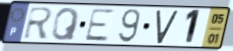1: (182, 9, 201, 47)
9: (116, 8, 143, 44)
E: (83, 7, 116, 43)
Q: (50, 6, 82, 42)
R: (22, 6, 55, 41)
V: (155, 9, 181, 46)
